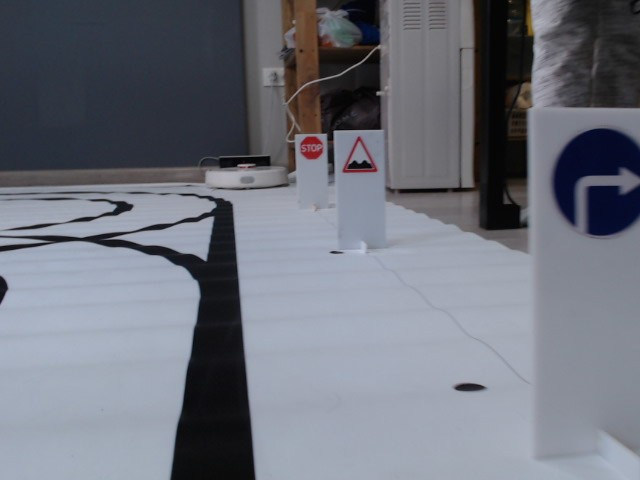Nerov: (341, 137, 380, 174)
Right: (545, 129, 640, 236)
Stop: (300, 137, 323, 161)
